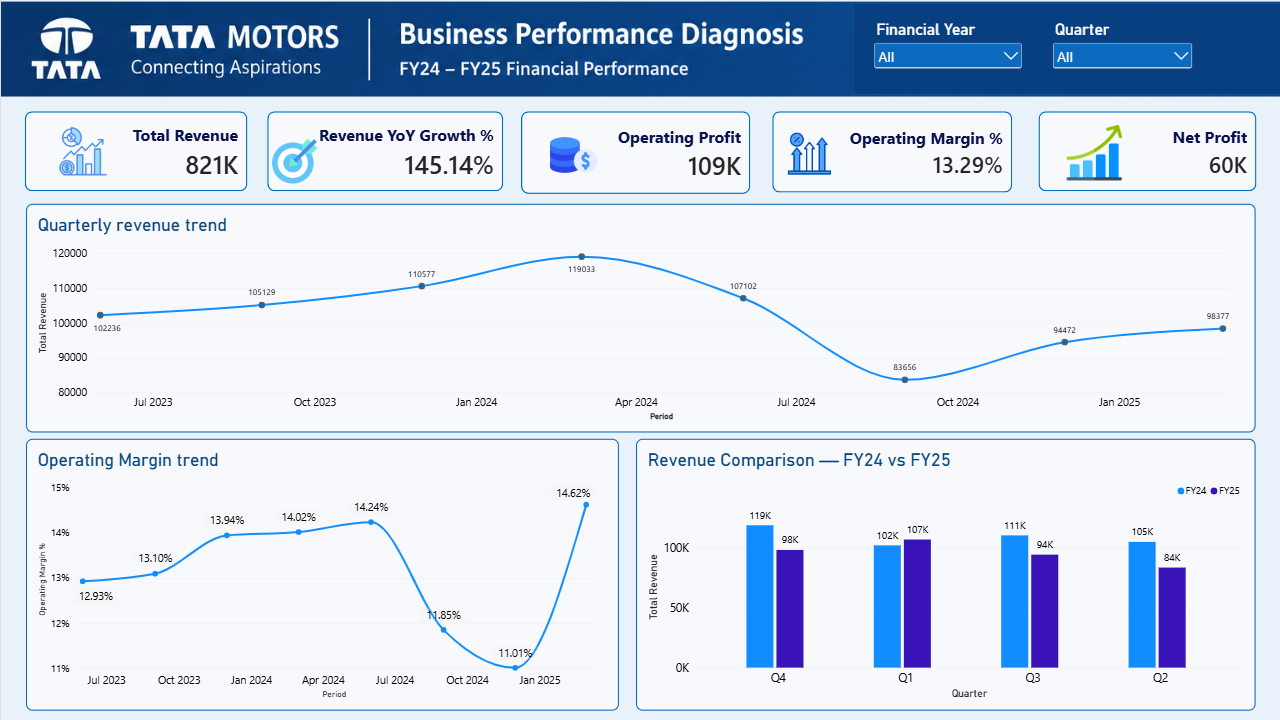

This screenshot's page, from the dashboard's own definition file:
{"tool":"powerbi","page":{"name":"Page 1","canvas":[1920,1080],"ordinal":0},"visuals":[{"type":"image","box":[0,0,1920.1,146.6],"z":0},{"type":"shape","box":[1279.4,5.4,640.6,135.7],"z":1000},{"type":"slicer","fields":{"Values":["Fact_Financials.Financial_Year"]},"box":[1304.8,30.8,231.6,85.1],"z":2000},{"type":"slicer","fields":{"Values":["Fact_Financials.Quarter"]},"box":[1572.6,30.8,219,85.1],"z":3000},{"type":"cardVisual","fields":{"Data":["Fact_Financials.Total Revenue"]},"box":[35.7,166.5,334.9,120.9],"z":4000},{"type":"image","box":[37.5,178.2,170.7,97.5],"z":5000},{"type":"cardVisual","fields":{"Data":["Fact_Financials.Revenue YoY Growth %"]},"box":[400.3,166.5,354.7,120.9],"z":6000},{"type":"cardVisual","fields":{"Data":["Fact_Financials.Operating Profit"]},"box":[780.8,166.5,344.8,124.9],"z":7000},{"type":"cardVisual","fields":{"Data":["Fact_Financials.Operating Margin %"]},"box":[1157.4,166.5,360.7,122.9],"z":8000},{"type":"cardVisual","fields":{"Data":["Fact_Financials.Net Profit"]},"box":[1555.7,166.5,327,120.9],"z":9000},{"type":"image","box":[1171.3,196.2,81.3,67.4],"z":10000},{"type":"image","box":[1597.4,188.3,85.2,83.2],"z":11000},{"type":"image","box":[804.5,196.9,109,71.3],"z":12000},{"type":"lineChart","title":"Quarterly revenue trend","fields":{"Category":["Fact_Financials.Period"],"Y":["Fact_Financials.Total Revenue"]},"box":[37.7,305.2,1845.1,342.9],"z":13000},{"type":"lineChart","title":"Operating Margin trend","fields":{"Category":["Fact_Financials.Period"],"Y":["Fact_Financials.Operating Margin %"]},"box":[37.7,658,889.8,408.3],"z":14000},{"type":"clusteredColumnChart","title":"Revenue Comparison — FY24 vs FY25","fields":{"Category":["Fact_Financials.Quarter"],"Series":["Fact_Financials.Financial_Year"],"Y":["Fact_Financials.Total Revenue"]},"box":[953.3,658,929.5,408.3],"z":15000},{"type":"image","box":[399.5,208.2,82.5,67.5],"z":16000}]}

Visuals, with their boxes in screenshot pixels (x1, y1, x2, y2), scaled from the page's 1920x1080 canvas onto the 1280x720 screenshot:
image: x1=0 y1=0 x2=1279 y2=98
shape: x1=853 y1=4 x2=1279 y2=94
slicer - Fact_Financials.Financial_Year: x1=870 y1=21 x2=1024 y2=77
slicer - Fact_Financials.Quarter: x1=1048 y1=21 x2=1194 y2=77
cardVisual - Fact_Financials.Total Revenue: x1=24 y1=111 x2=247 y2=192
image: x1=25 y1=119 x2=139 y2=184
cardVisual - Fact_Financials.Revenue YoY Growth %: x1=267 y1=111 x2=503 y2=192
cardVisual - Fact_Financials.Operating Profit: x1=521 y1=111 x2=750 y2=194
cardVisual - Fact_Financials.Operating Margin %: x1=772 y1=111 x2=1012 y2=193
cardVisual - Fact_Financials.Net Profit: x1=1037 y1=111 x2=1255 y2=192
image: x1=781 y1=131 x2=835 y2=176
image: x1=1065 y1=126 x2=1122 y2=181
image: x1=536 y1=131 x2=609 y2=179
"Quarterly revenue trend" lineChart: x1=25 y1=203 x2=1255 y2=432
"Operating Margin trend" lineChart: x1=25 y1=439 x2=618 y2=711
"Revenue Comparison — FY24 vs FY25" clusteredColumnChart: x1=636 y1=439 x2=1255 y2=711
image: x1=266 y1=139 x2=321 y2=184
